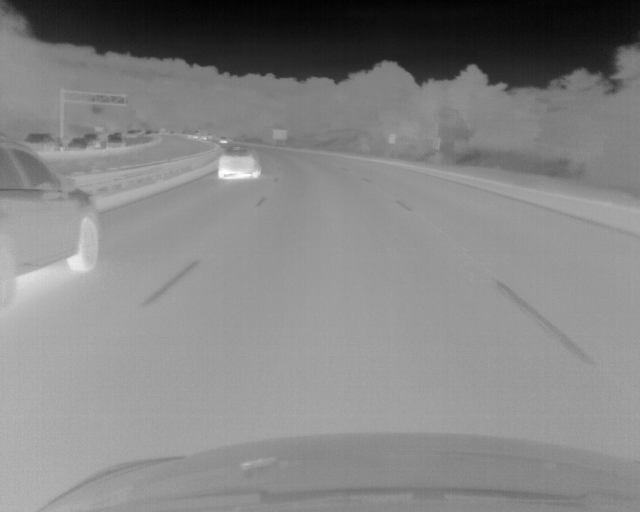car: (1, 135, 100, 313), (217, 146, 262, 180), (24, 133, 55, 151), (66, 137, 94, 150), (106, 136, 125, 149), (86, 132, 100, 146), (219, 138, 228, 144)
